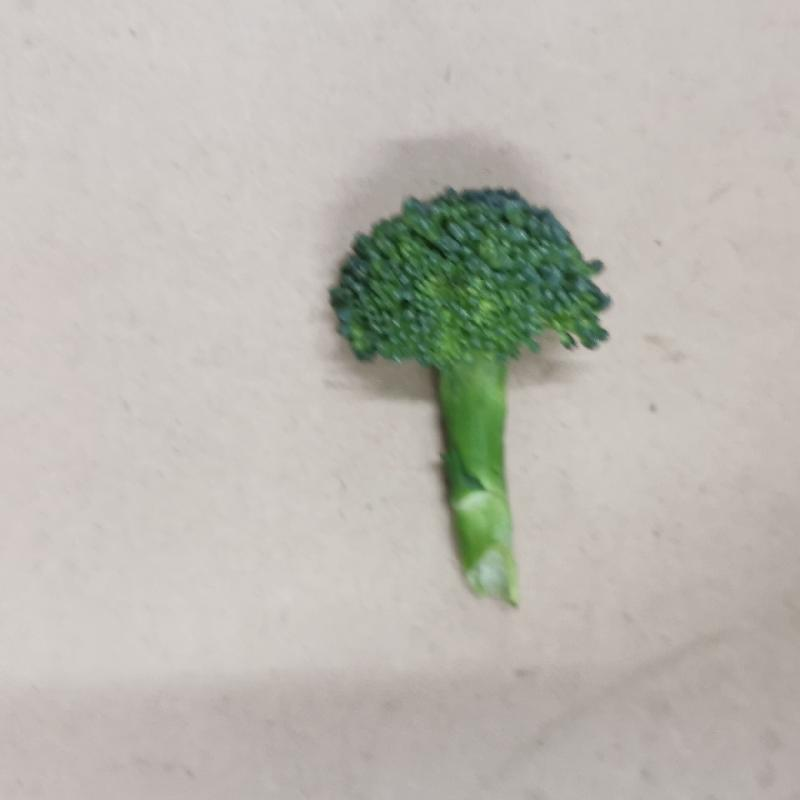broccoli: (327, 181, 615, 624)
